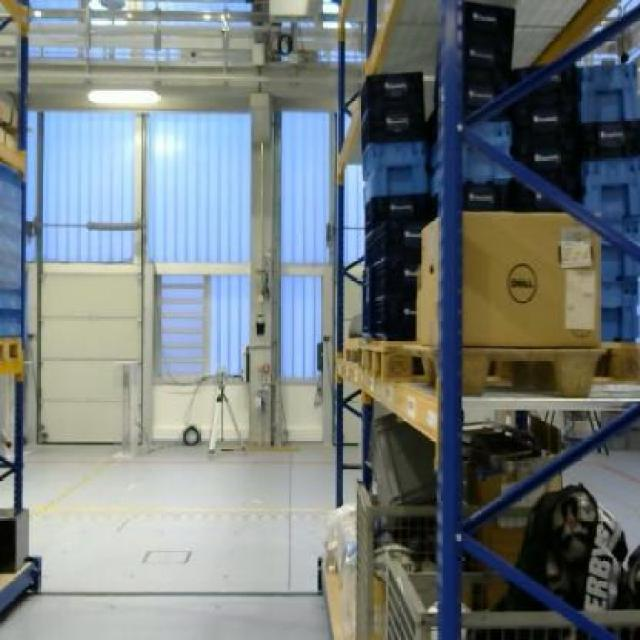box: (415, 210, 603, 347)
